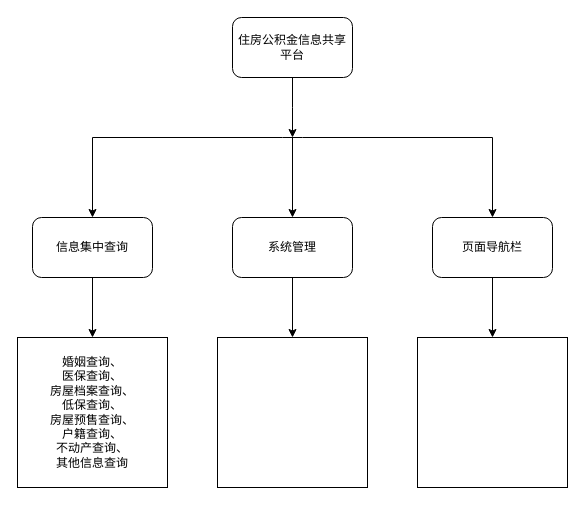
Image size: 585x505. Some labels were removed from this diagram. The centre of each missing label's shape, as x and y in pixels:
"个人配置、 权限管理、 角色组管理、 日志审计、 读卡器管理" goes at point 292,412.
"切换页面、 返回主页面、 清空查询缓存、 切换中英文、 缩放页面" goes at point 492,412.
